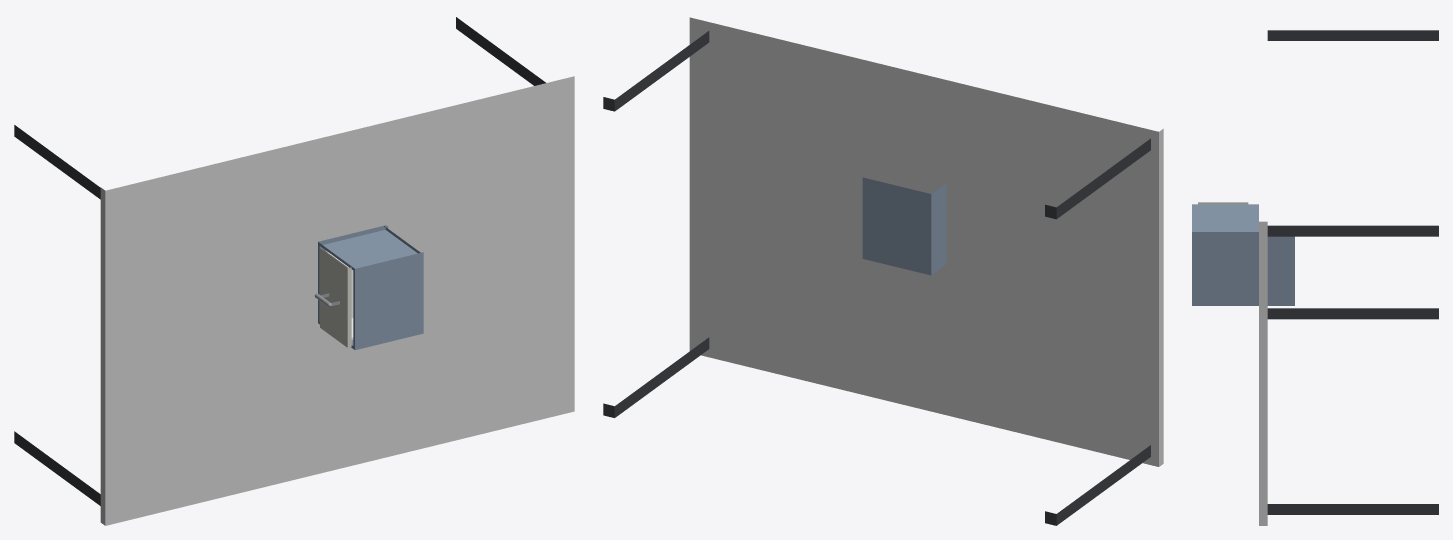
The model's file is t2_ff4a8bee62.glb.
3 views of the same model, side by side, from view 1: azimuth 30°, elevation 25°; view 2: azimuth 150°, elevation 25°; view 3: azimuth 270°, elevation 25° (orthographic). The views are drawn at different scales.
Parts seen in each view (by area): view 1: s0, s1, s2; view 2: s0, s1; view 3: s0, s1.
Boxes of the visible parts, box(x1,y1,x2,y2) form: s0: box(14, 17, 574, 525); s1: box(318, 225, 423, 350); s2: box(314, 248, 353, 347); s0: box(603, 17, 1163, 525); s1: box(862, 177, 946, 275); s0: box(1259, 30, 1438, 525); s1: box(1192, 204, 1294, 305).
Bounding box in the file's own units: 2.05 × 1.4 × 1.03.
